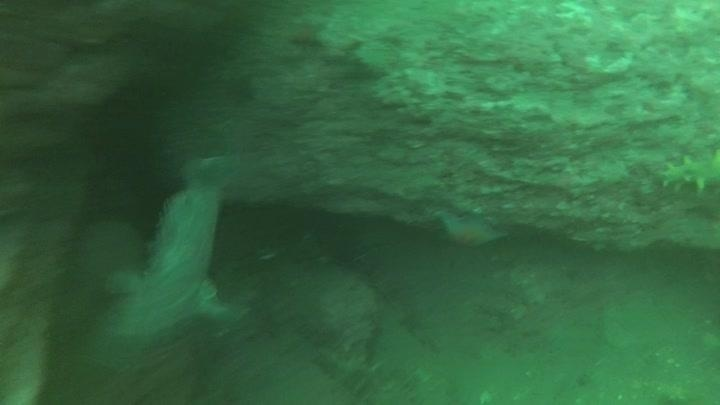holothurian: (312, 344, 397, 403), (654, 145, 720, 197)
starfish: (431, 205, 510, 251)
